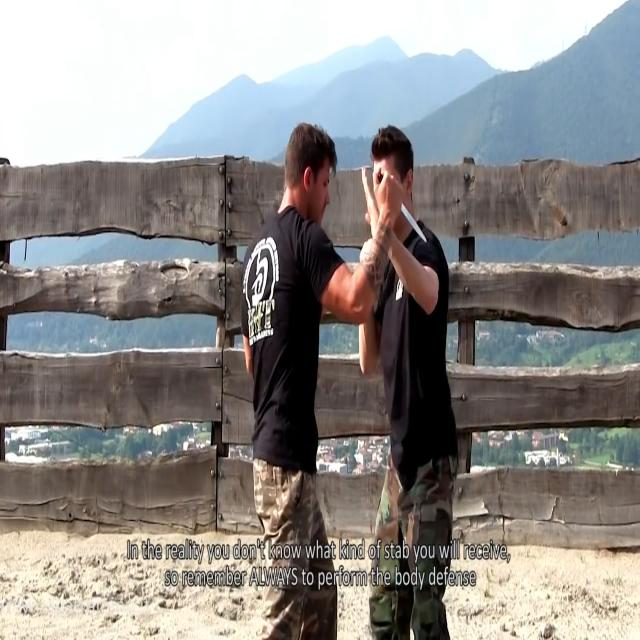knife: (402, 203, 432, 247)
